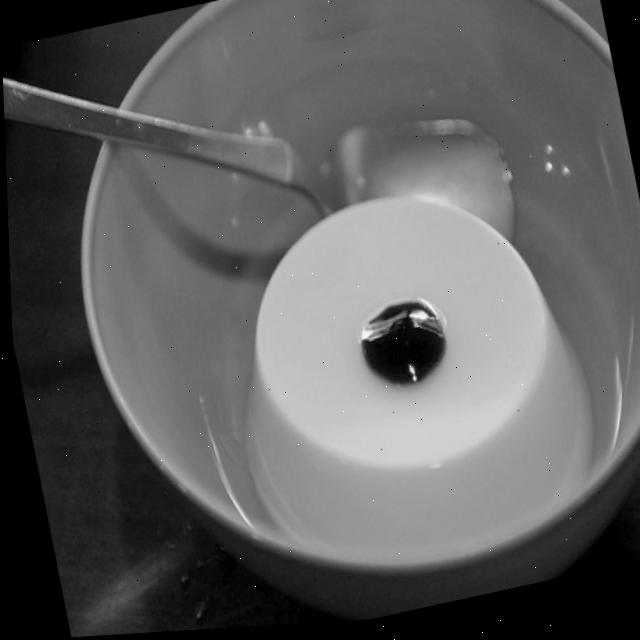豆腐料理: (16, 0, 640, 639)
